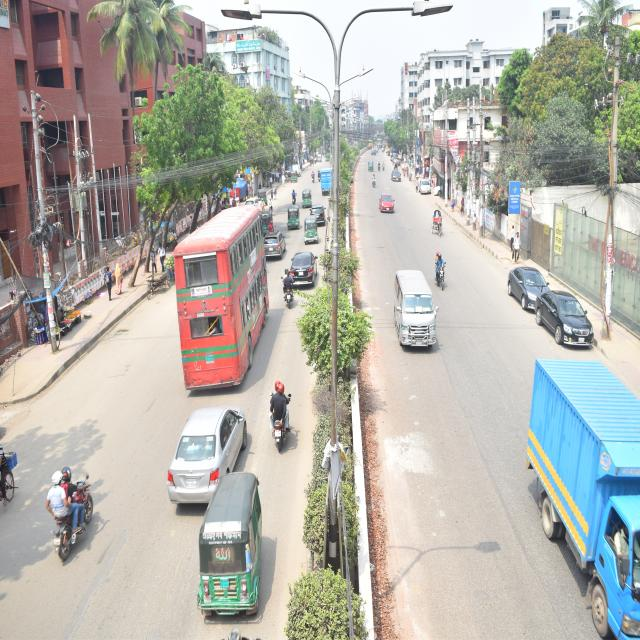bus: (160, 185, 286, 403)
car: (156, 383, 280, 515), (529, 264, 608, 354), (494, 236, 560, 330), (256, 205, 293, 259), (286, 239, 322, 288), (376, 178, 406, 235), (411, 166, 440, 214), (308, 195, 328, 236), (390, 161, 404, 197)
microbus: (391, 242, 448, 366)
motorbike: (31, 436, 118, 586), (245, 353, 302, 463), (418, 245, 458, 301), (272, 257, 298, 320), (368, 169, 384, 192), (286, 183, 300, 208), (374, 154, 386, 179), (318, 161, 323, 192), (310, 164, 316, 186)
pickup-van: (316, 159, 344, 220)
truck: (501, 320, 640, 640)
